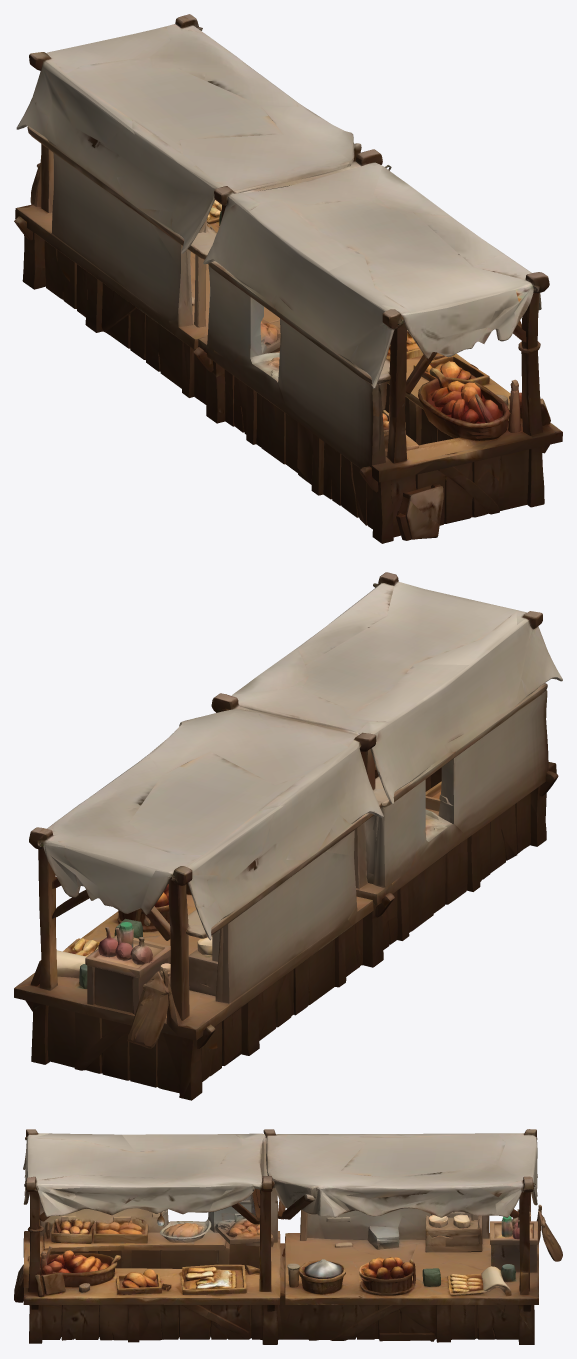
3 views of the same model, one above another, from view 1: azimuth 30°, elevation 25°; view 2: azimuth 150°, elevation 25°; view 3: azimuth 270°, elevation 25° (orthographic). The views are drawn at different scales.
Visible parts, largest first — view 1: model; view 2: model; view 3: model.
Boxes of the visible parts, <box> form: model: <box>14,14,562,543</box>; model: <box>14,572,562,1100</box>; model: <box>14,1129,562,1344</box>.
Size of the model in its own units: 0.5513 by 0.6235 by 1.89.
Materials: 1 (1 with a texture image).
